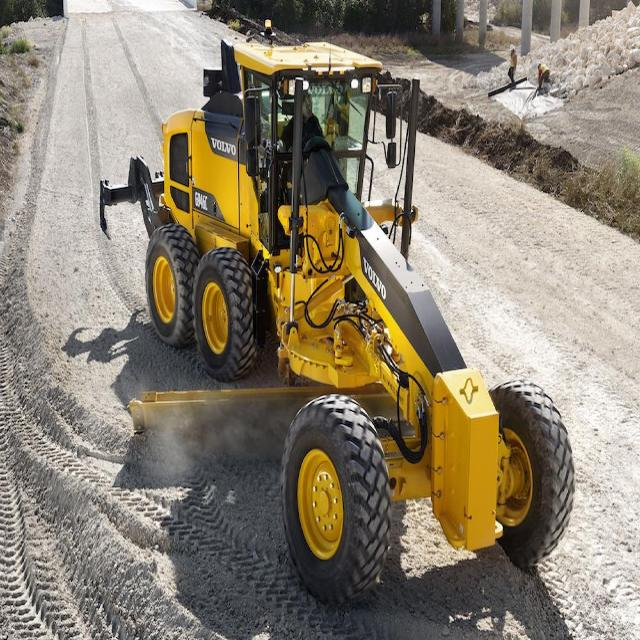buldozerpayloadergrader: (89, 30, 571, 601)
